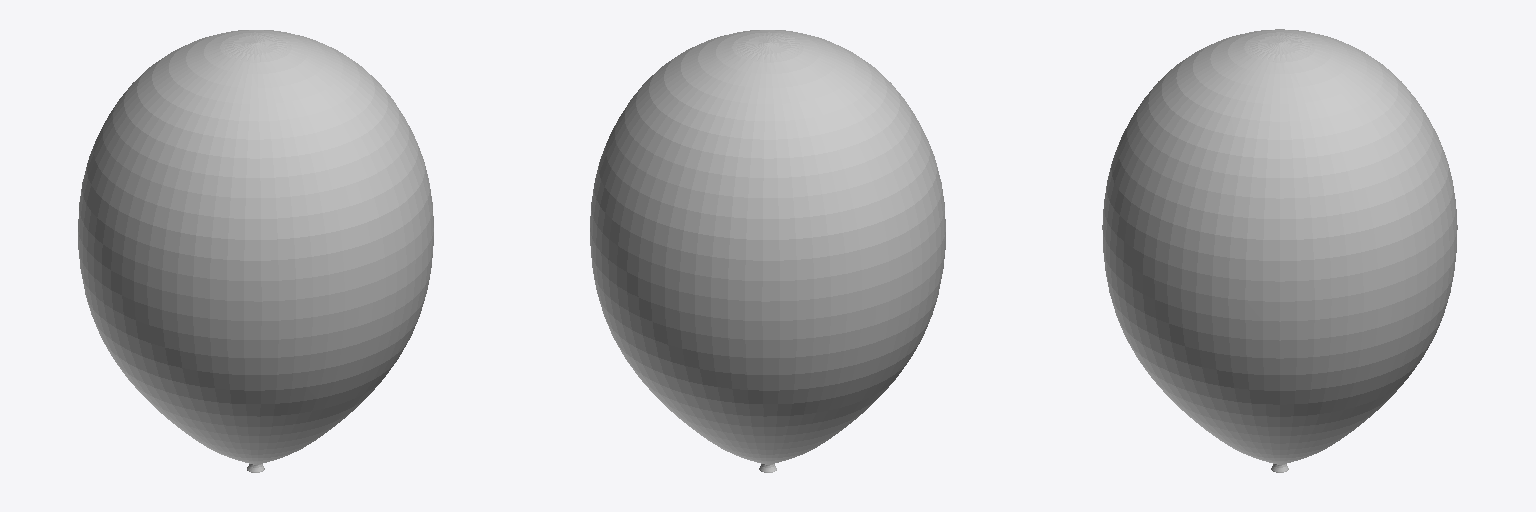
Rendered from Globo4.obj.
3 renders of one model, left to right at view 1: azimuth 30°, elevation 25°; view 2: azimuth 150°, elevation 25°; view 3: azimuth 270°, elevation 25°, orthographic.
Parts seen in each view (by area): view 1: Sphere.007; view 2: Sphere.007; view 3: Sphere.007.
Part boxes in pixels (x1,y1,x2,y2): Sphere.007: (78,30,433,472); Sphere.007: (590,30,945,472); Sphere.007: (1102,29,1457,472).
Size of the model in its own units: 0.5211 by 0.688 by 0.519.